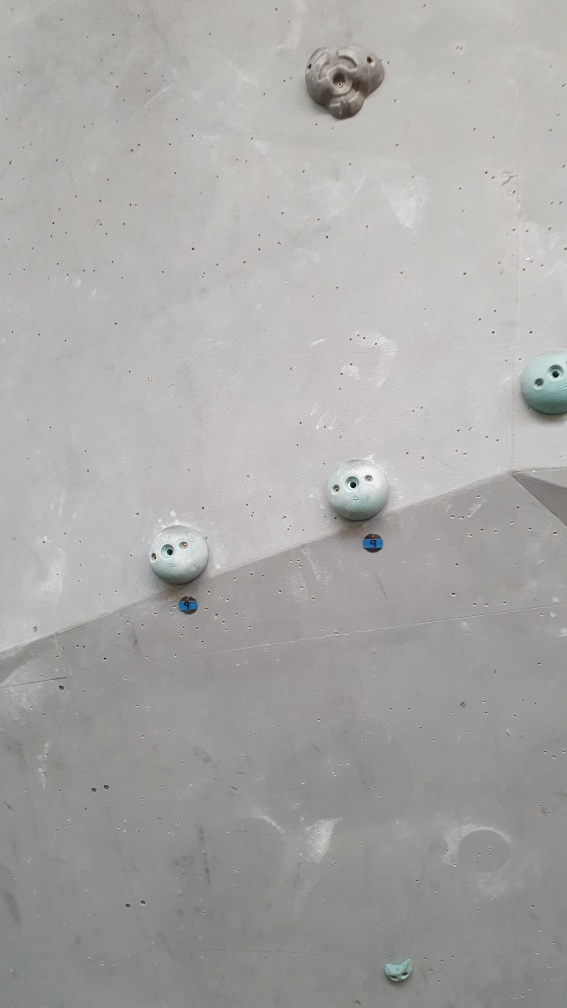Hand Start: (361, 532, 385, 558), (177, 595, 198, 615)
Jug: (305, 42, 391, 122)
Sloper: (151, 523, 213, 588), (327, 459, 391, 520), (519, 349, 567, 425)
